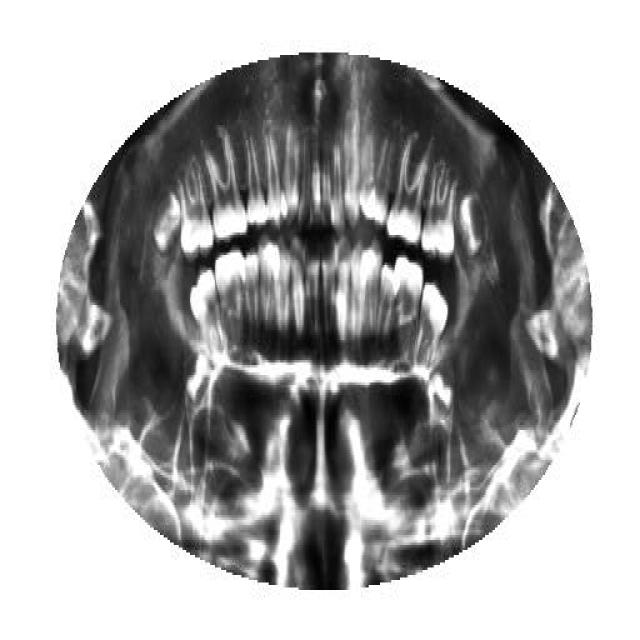Impacted Tooth: (456, 185, 495, 265), (151, 187, 181, 255)
